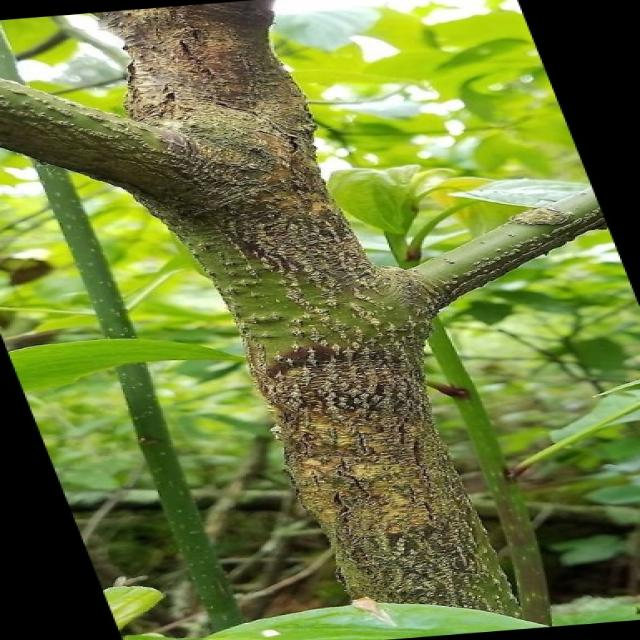Golden_canker: (0, 10, 529, 544)
